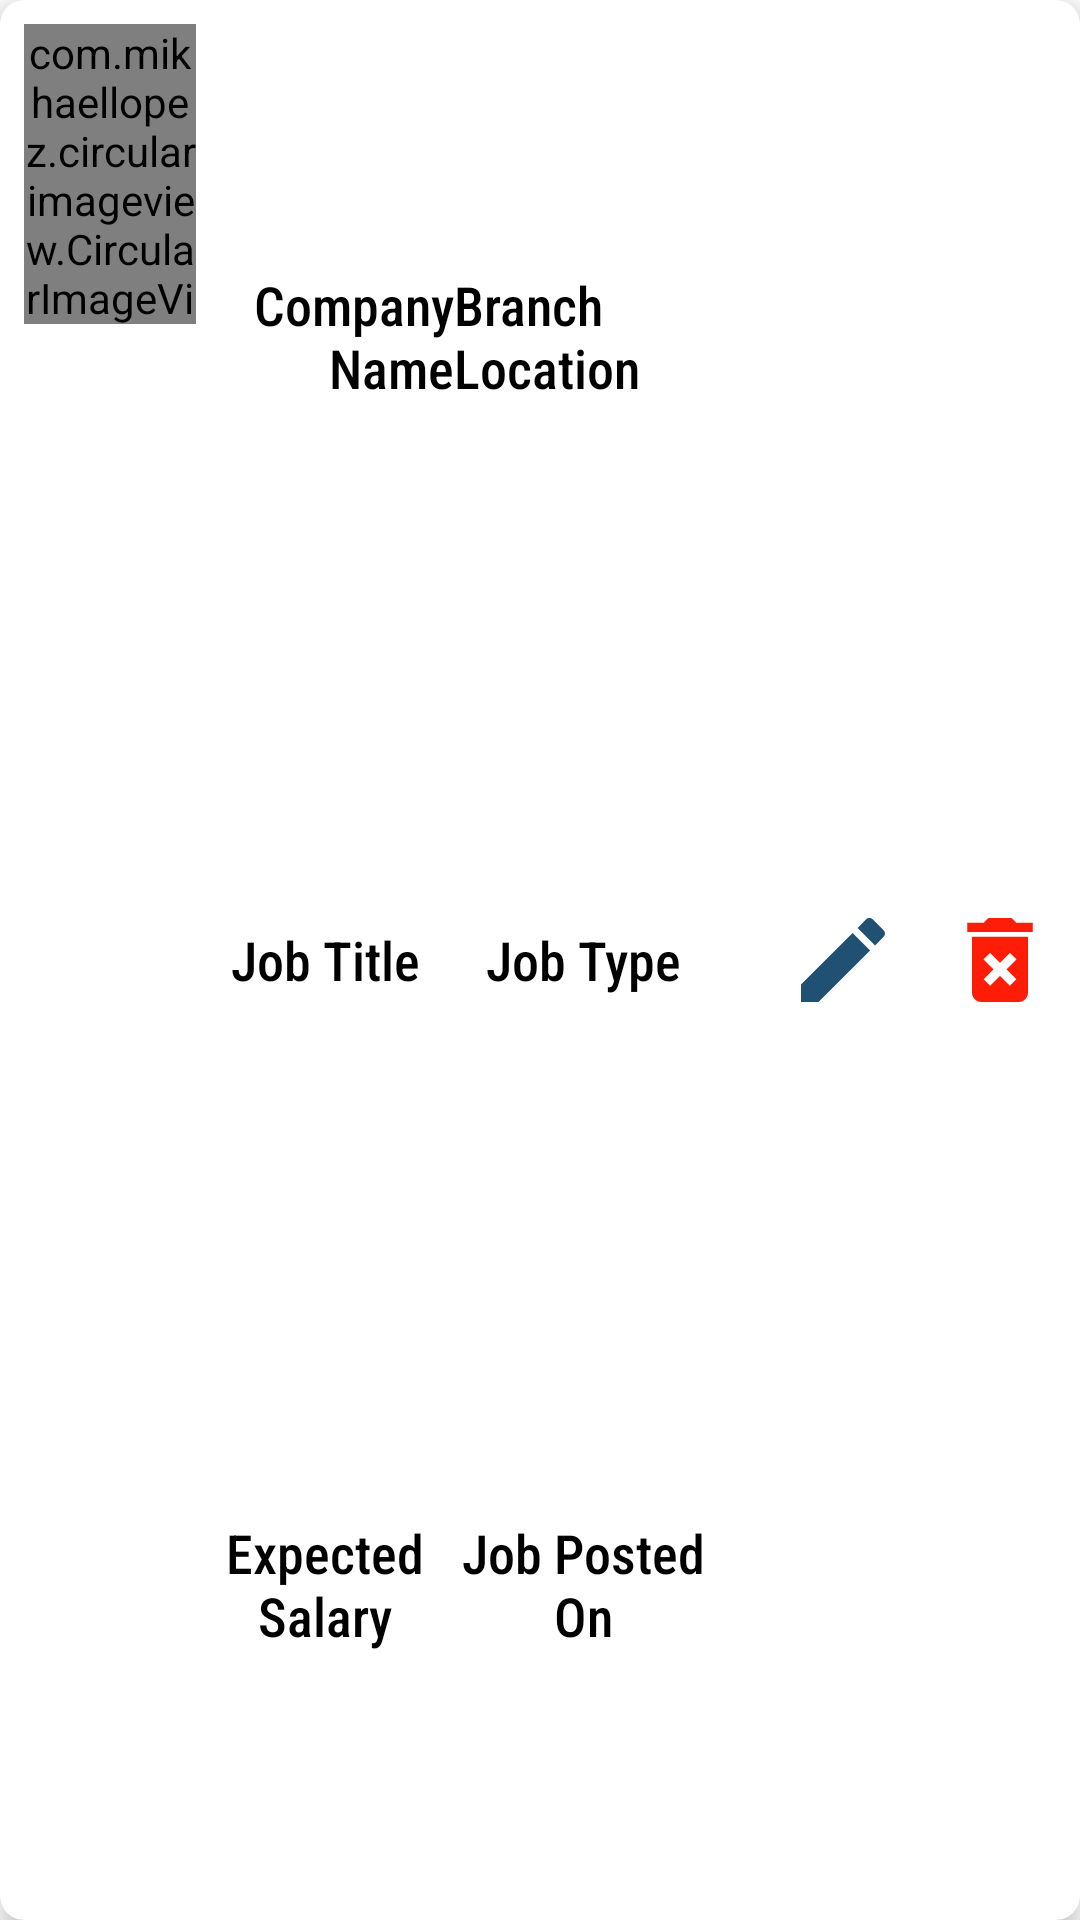

Icon bounding boxes for this 1080 × 1920 phone screenshot, format (x1, y1, x2, y2):
delete forever: (967, 918, 1033, 1002)
edit: (801, 918, 885, 1002)
